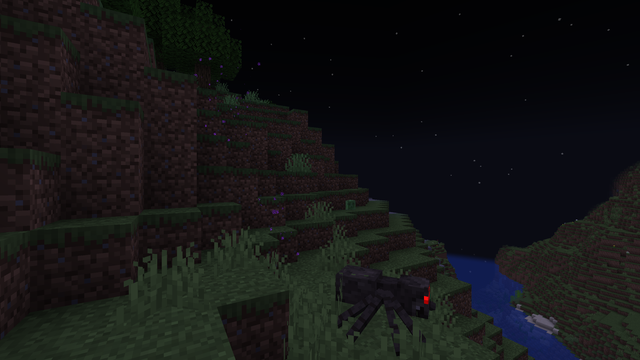araignees: (336, 257, 446, 356)
slimes: (345, 199, 355, 209)
